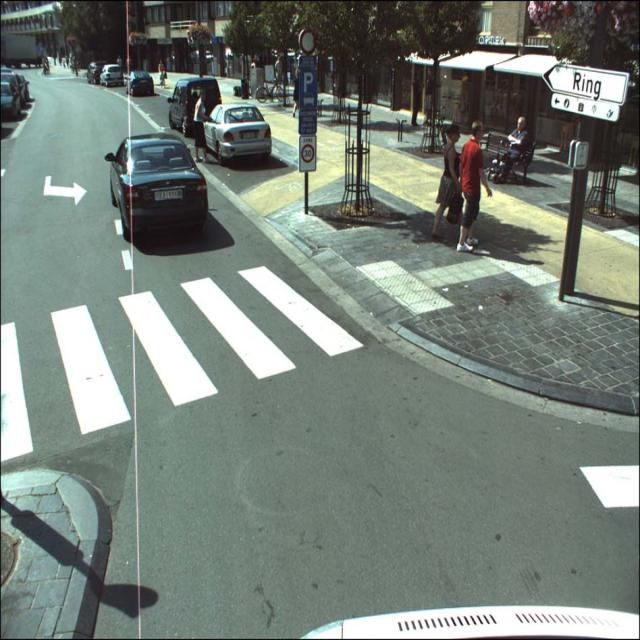park: (300, 70, 318, 108)
